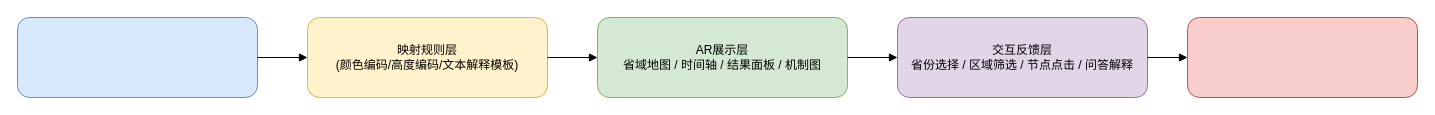
Some shapes in this 1435 by 115 pixel diagram are drawn without their labels. The centre of each missing label's shape, as x and y in pixels:
政策研判输出 空间差异 + 时序变化 + 机制解释: [1302,57]
计量结果输入 (系数/显著性/拐点/异质性/中介效应): [137,57]
